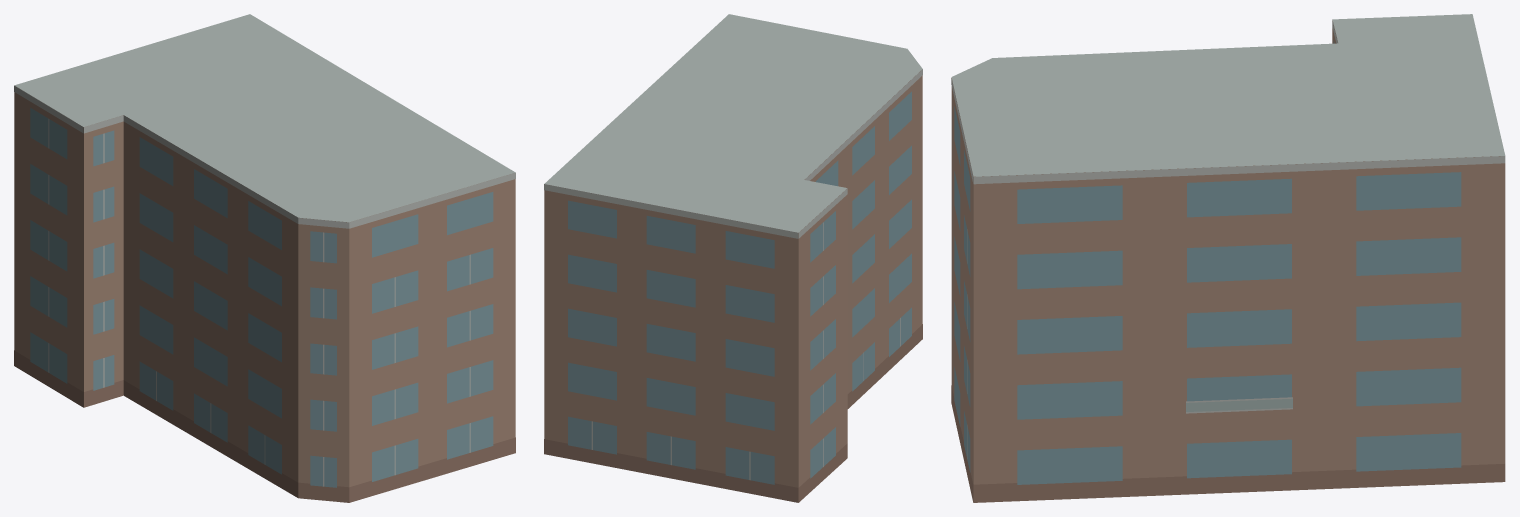
Rendered from survey-upis-32699144.glb.
3 views of the same model, side by side, from view 1: azimuth 30°, elevation 25°; view 2: azimuth 150°, elevation 25°; view 3: azimuth 270°, elevation 25° (orthographic). The views are drawn at different scales.
Visible parts, largest first — view 1: survey-upis-32699144.tmp; view 2: survey-upis-32699144.tmp; view 3: survey-upis-32699144.tmp.
Part boxes in pixels (box(x1,y1,x2,y2)): survey-upis-32699144.tmp: box(14, 14, 515, 502); survey-upis-32699144.tmp: box(544, 14, 922, 502); survey-upis-32699144.tmp: box(951, 14, 1505, 502).
Bounding box in the file's own units: 11.41 × 10.65 × 16.41.
